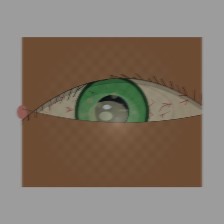corneal_ulcer: (76, 89, 141, 141)
